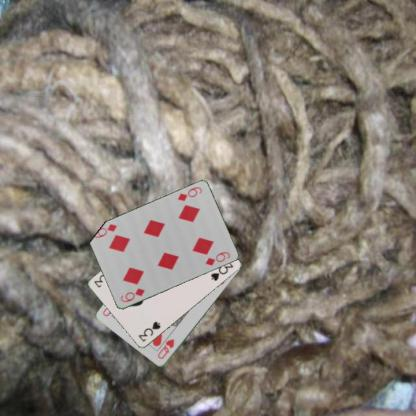3s: (136, 319, 162, 343)
6d: (174, 184, 203, 203), (118, 286, 146, 304)
Qh: (154, 337, 176, 360)
